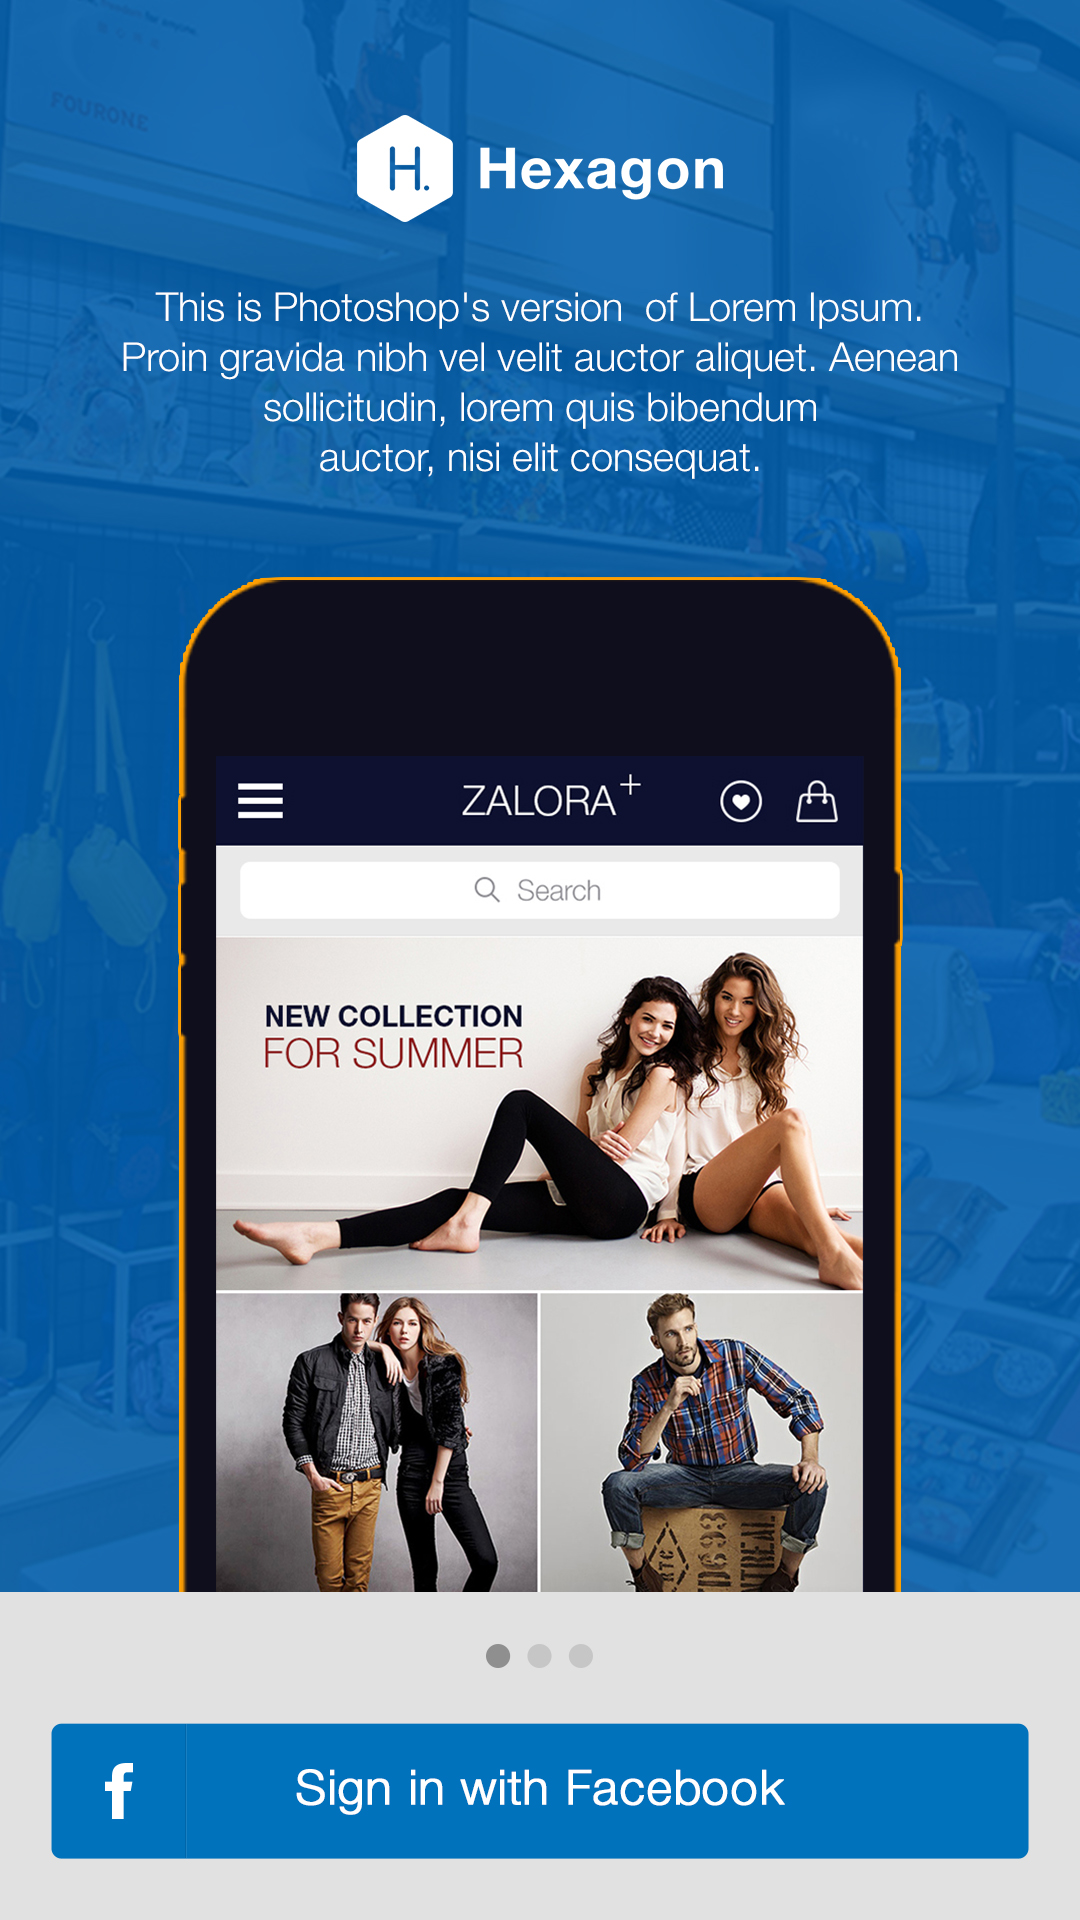Image: (178, 578, 902, 1592), (357, 115, 454, 224)
PageIndicator: (485, 1643, 595, 1669)
Text: (123, 291, 957, 481), (479, 146, 724, 202)
TextButton: (51, 1724, 1029, 1859)
